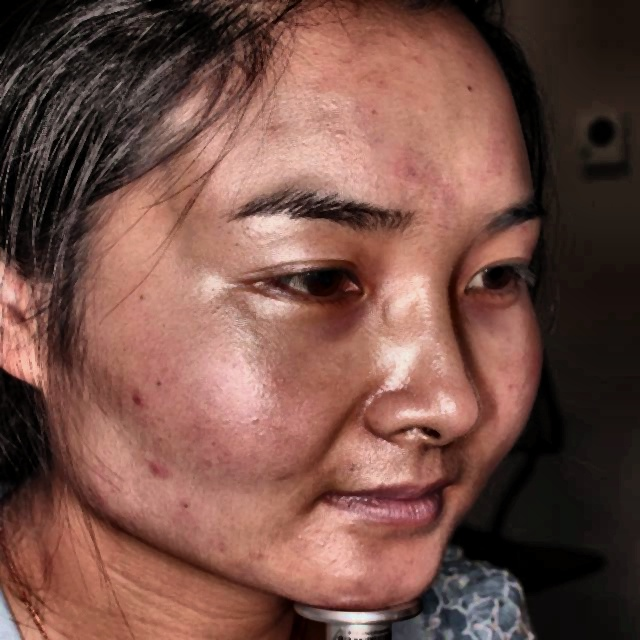comedone: (121, 385, 151, 414), (145, 458, 173, 485)
